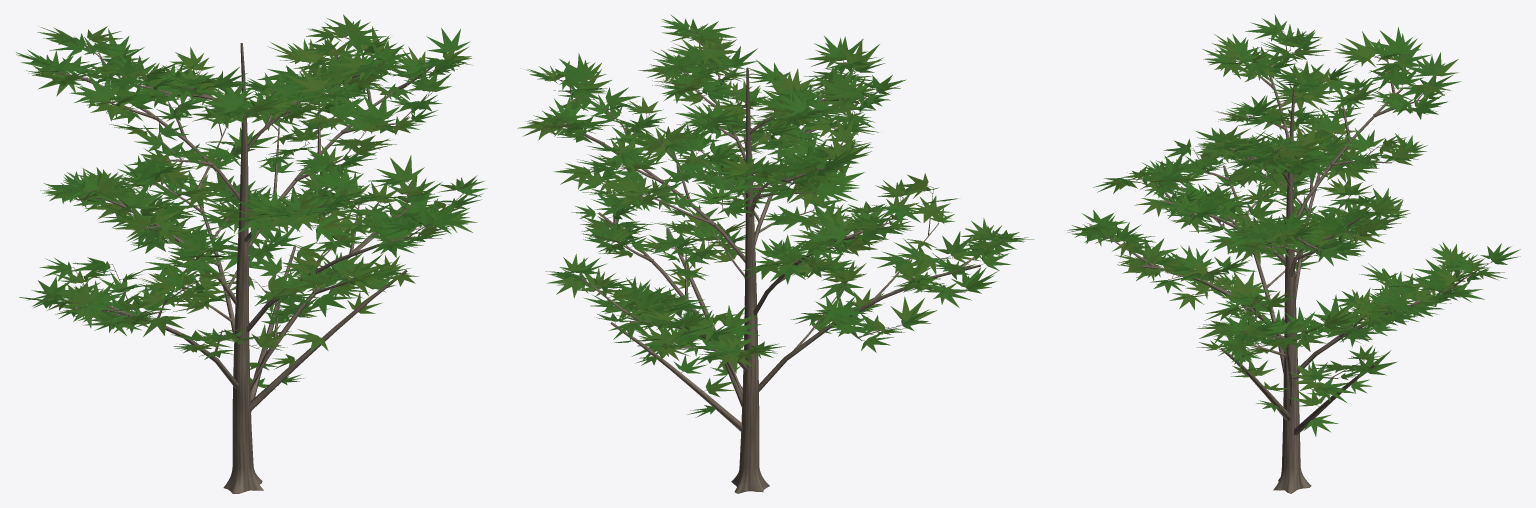
The model's file is maple.glb.
The picture shows the model from 3 angles, left to right: view 1: azimuth 30°, elevation 25°; view 2: azimuth 150°, elevation 25°; view 3: azimuth 270°, elevation 25°; orthographic projection. The views are drawn at different scales.
Parts seen in each view (by area): view 1: Foliage, Bark; view 2: Foliage, Bark; view 3: Foliage, Bark.
Boxes of the visible parts, x1=… form: Foliage: x1=16, y1=14, x2=487, y2=389; Bark: x1=42, y1=31, x2=464, y2=493; Foliage: x1=517, y1=14, x2=1034, y2=417; Bark: x1=549, y1=28, x2=1005, y2=493; Foliage: x1=1067, y1=14, x2=1520, y2=436; Bark: x1=1089, y1=30, x2=1492, y2=493.
Size of the model in its own units: 2.28 by 2.1 by 2.12.
2 materials, 1 textured.
